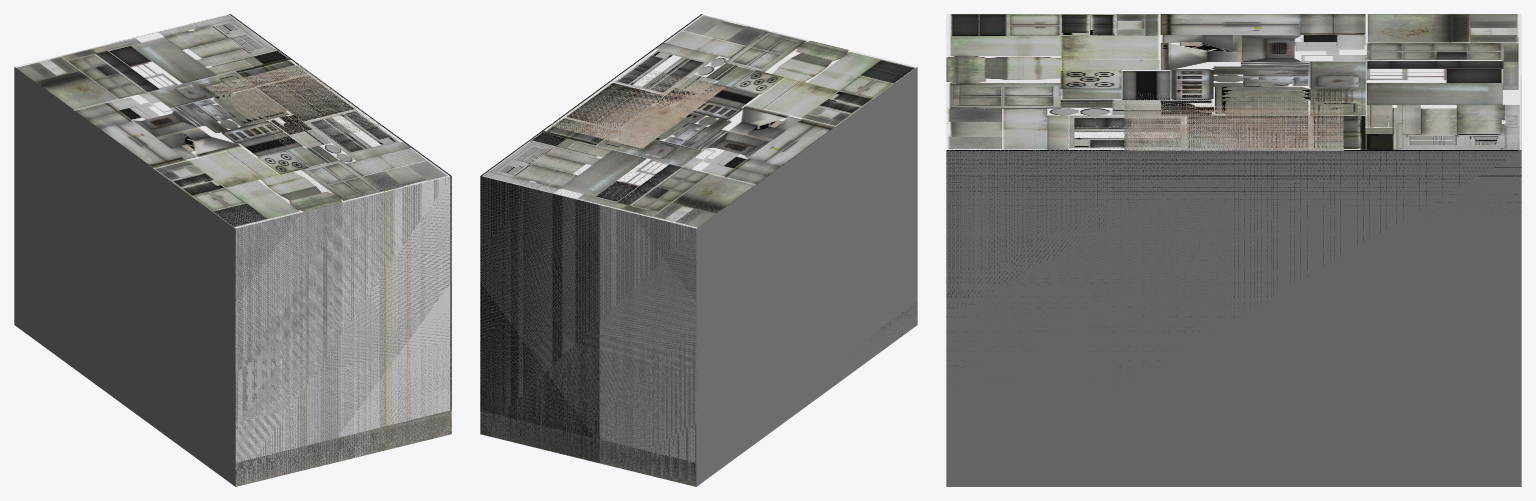
The model's file is overhead_range_hood.FBX.
The picture shows the model from 3 angles, left to right: view 1: azimuth 30°, elevation 25°; view 2: azimuth 150°, elevation 25°; view 3: azimuth 270°, elevation 25°; orthographic projection. The views are drawn at different scales.
Visible parts, largest first — view 1: bounds, colbox-1, overhead_range_hood100; view 2: bounds, colbox-1, overhead_range_hood100; view 3: bounds, colbox-1, overhead_range_hood100.
Boxes of the visible parts, left/top/right/bottom form: bounds: left=14, top=16, right=451, bottom=486; colbox-1: left=15, top=14, right=451, bottom=486; overhead_range_hood100: left=206, top=64, right=451, bottom=486; bounds: left=480, top=15, right=917, bottom=486; colbox-1: left=480, top=14, right=916, bottom=485; overhead_range_hood100: left=480, top=65, right=917, bottom=486; bounds: left=946, top=92, right=1521, bottom=486; colbox-1: left=946, top=14, right=1521, bottom=331; overhead_range_hood100: left=1124, top=91, right=1343, bottom=150.
Size of the model in its own units: 64.5 by 73.71 by 114.
